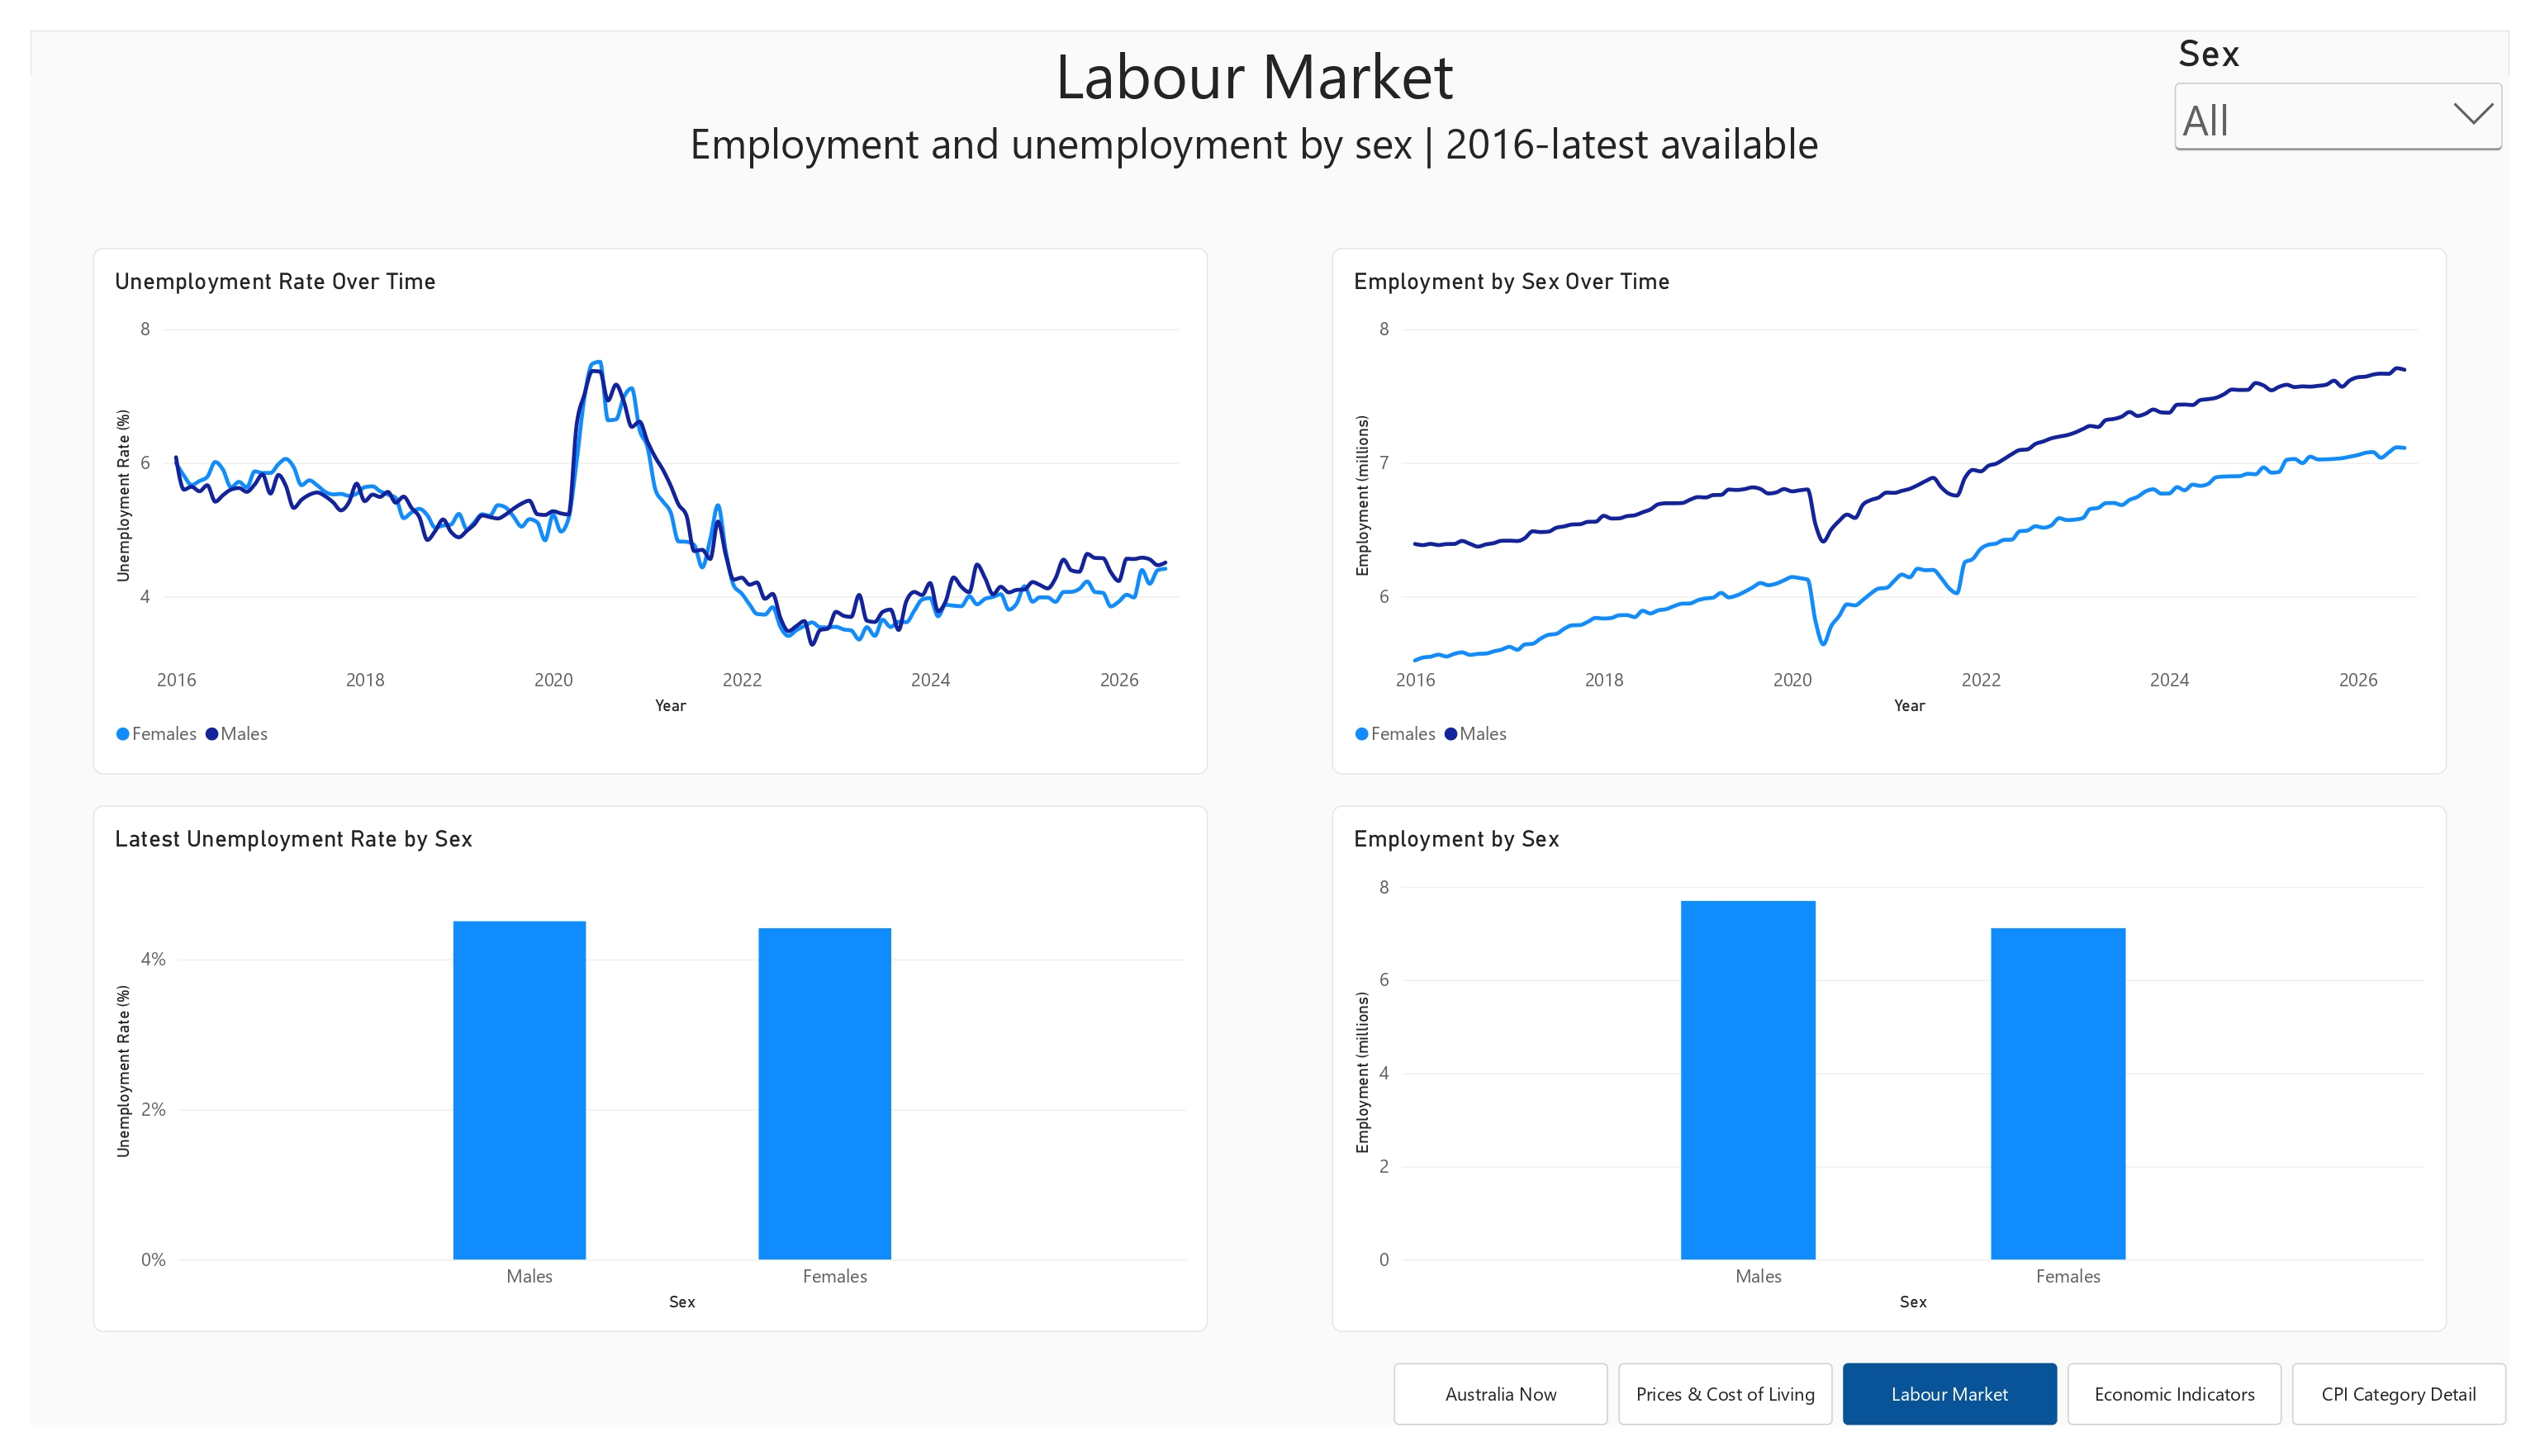

Layout of this report page (visuals, bound fields, positions):
{"tool":"powerbi","page":{"name":"Labour Market","canvas":[1920,1080],"ordinal":2},"visuals":[{"type":"textbox","box":[216,0,1464,144],"z":0},{"type":"lineChart","title":"Employment by Sex Over Time","fields":{"Category":["DimDate.Date"],"Series":["Labour Force.Sex"],"Y":["Labour Force.Employment (M)"]},"box":[1008,168,864,408],"z":1000},{"type":"lineChart","title":"Unemployment Rate Over Time","fields":{"Category":["DimDate.Date"],"Series":["Labour Force.Sex"],"Y":["Sum(Labour Force.Value)"]},"box":[48,168,864,408],"z":2000},{"type":"clusteredColumnChart","title":"Employment by Sex","fields":{"Category":["Labour Force.Sex"],"Y":["Labour Force.Employment (M)"]},"box":[1008,600,864,408],"z":3000},{"type":"clusteredColumnChart","title":"Latest Unemployment Rate by Sex","fields":{"Category":["Labour Force.Sex"],"Y":["Labour Force.Latest Unemployment Rate %"]},"box":[48,600,864,408],"z":4000},{"type":"slicer","fields":{"Values":["Labour Force.Sex"]},"box":[1656,0,264,144],"z":5000},{"type":"pageNavigator","box":[1056,1032,864,48],"z":6000}]}

Visuals, with their boxes on the page's 1920x1080 design canvas (x1, y1, x2, y2). These are canvas units, not pixel positions in the 2540x1456 screenshot, which may show the page scaled, cropped or inside an application window:
textbox: bbox(216, 0, 1680, 144)
"Employment by Sex Over Time" lineChart: bbox(1008, 168, 1872, 576)
"Unemployment Rate Over Time" lineChart: bbox(48, 168, 912, 576)
"Employment by Sex" clusteredColumnChart: bbox(1008, 600, 1872, 1008)
"Latest Unemployment Rate by Sex" clusteredColumnChart: bbox(48, 600, 912, 1008)
slicer - Labour Force.Sex: bbox(1656, 0, 1920, 144)
pageNavigator: bbox(1056, 1032, 1920, 1080)
